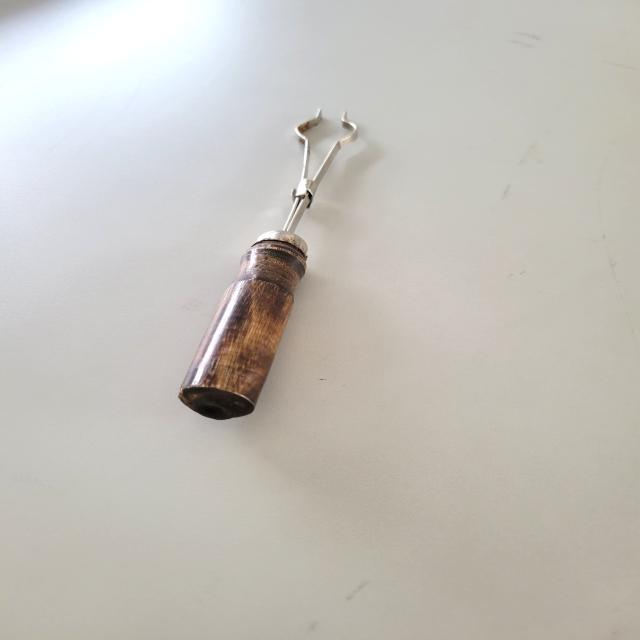TestTube_Holder: (145, 96, 390, 450)
